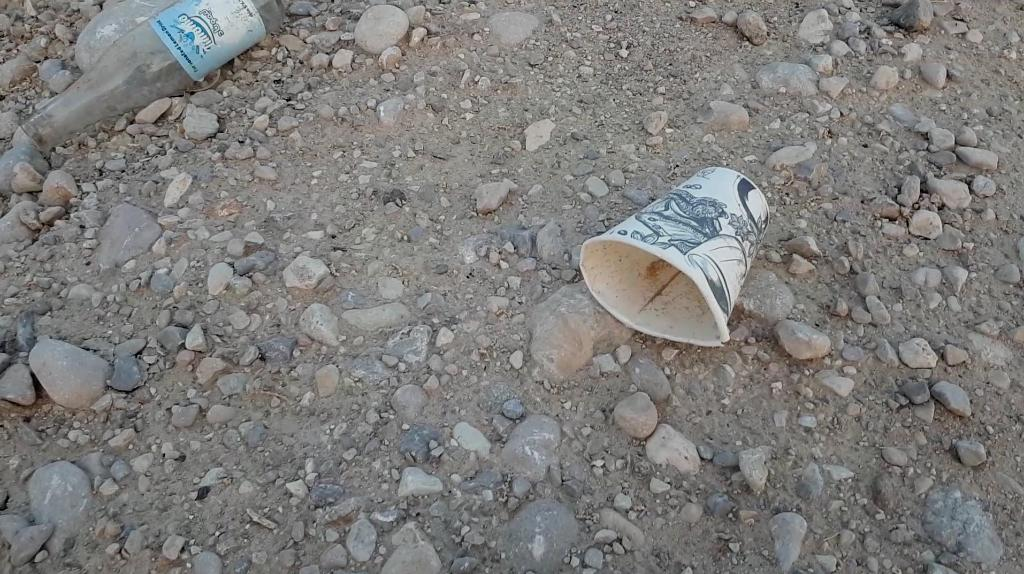garbage: (42, 0, 288, 210), (19, 0, 286, 152), (576, 159, 780, 350)
